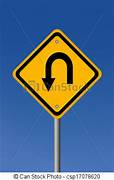back: (10, 28, 103, 119)
